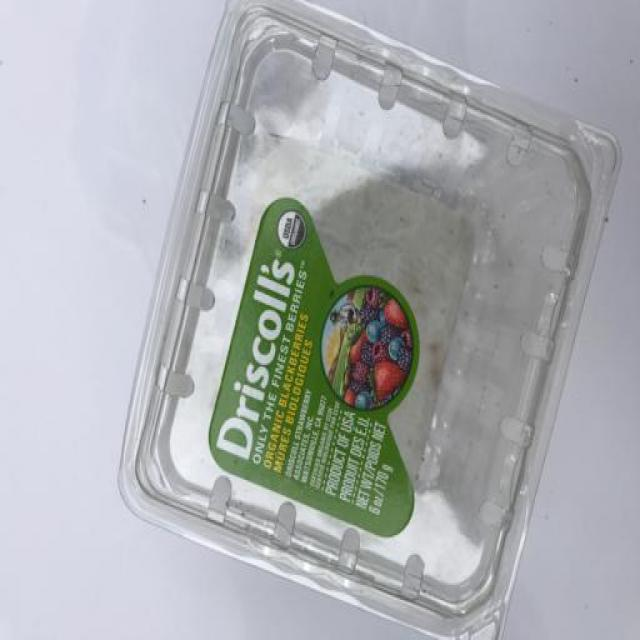plastic_bag: (115, 1, 629, 640)
